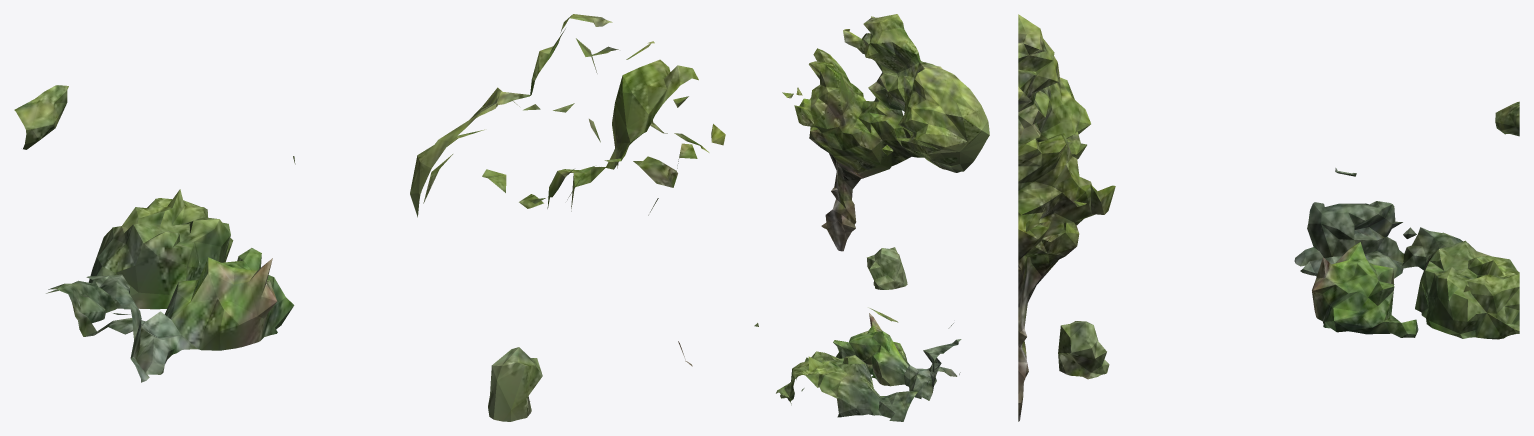
3 views of the same model, side by side, from view 1: azimuth 30°, elevation 25°; view 2: azimuth 150°, elevation 25°; view 3: azimuth 270°, elevation 25° (orthographic). The views are drawn at different scales.
Size of the model in its own units: 23.11 by 20.99 by 26.11.
Materials: 2 (2 with a texture image).
